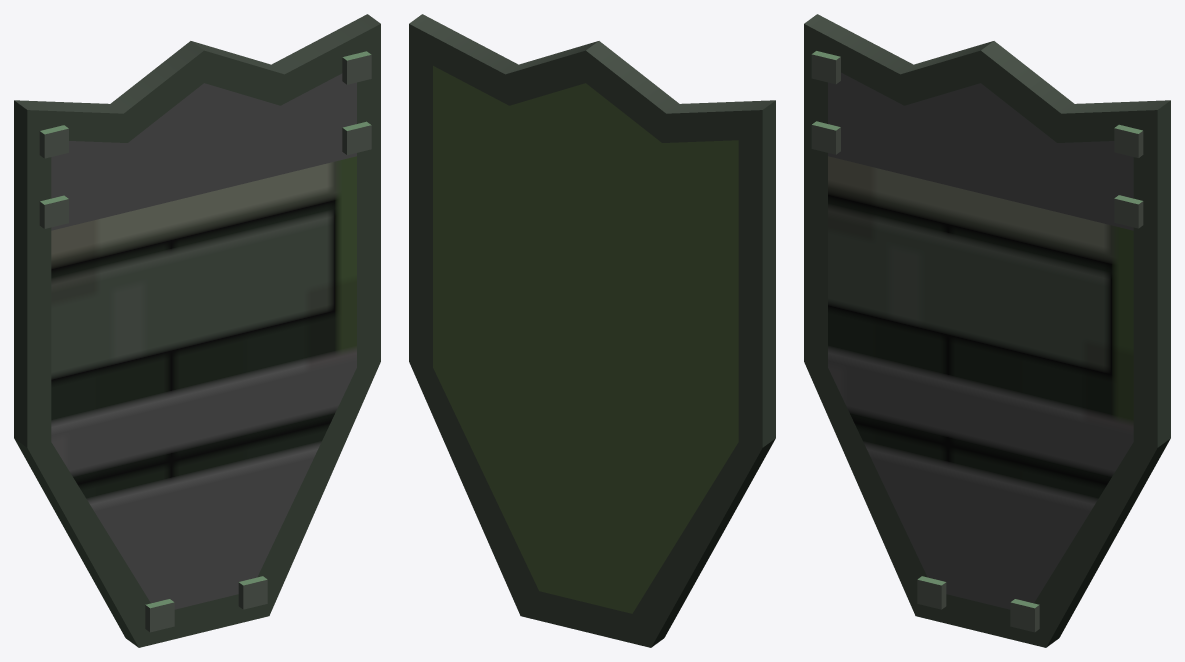
The model's file is SF_Wep_Human_Shield_04.glb.
3 views of the same model, side by side, from view 1: azimuth 30°, elevation 25°; view 2: azimuth 150°, elevation 25°; view 3: azimuth 330°, elevation 25° (orthographic).
Visible parts, largest first — view 1: SF_Wep_Human_Shield_04; view 2: SF_Wep_Human_Shield_04; view 3: SF_Wep_Human_Shield_04.
Boxes of the visible parts, x1,y1,x2,y2 form: SF_Wep_Human_Shield_04: (14,14,380,647); SF_Wep_Human_Shield_04: (409,14,775,647); SF_Wep_Human_Shield_04: (804,14,1170,647).
Bounding box in the file's own units: 0.00956 × 0.015 × 0.000851.
1 material, 1 textured.
